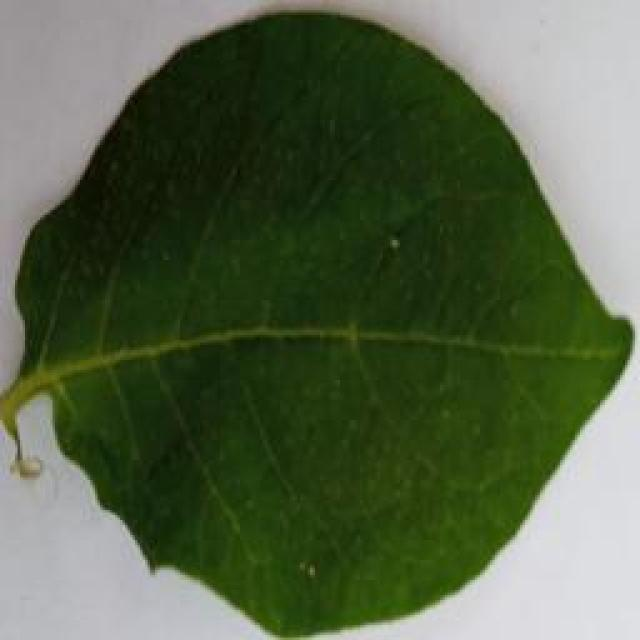Potato_Healthy: (11, 15, 634, 630)
